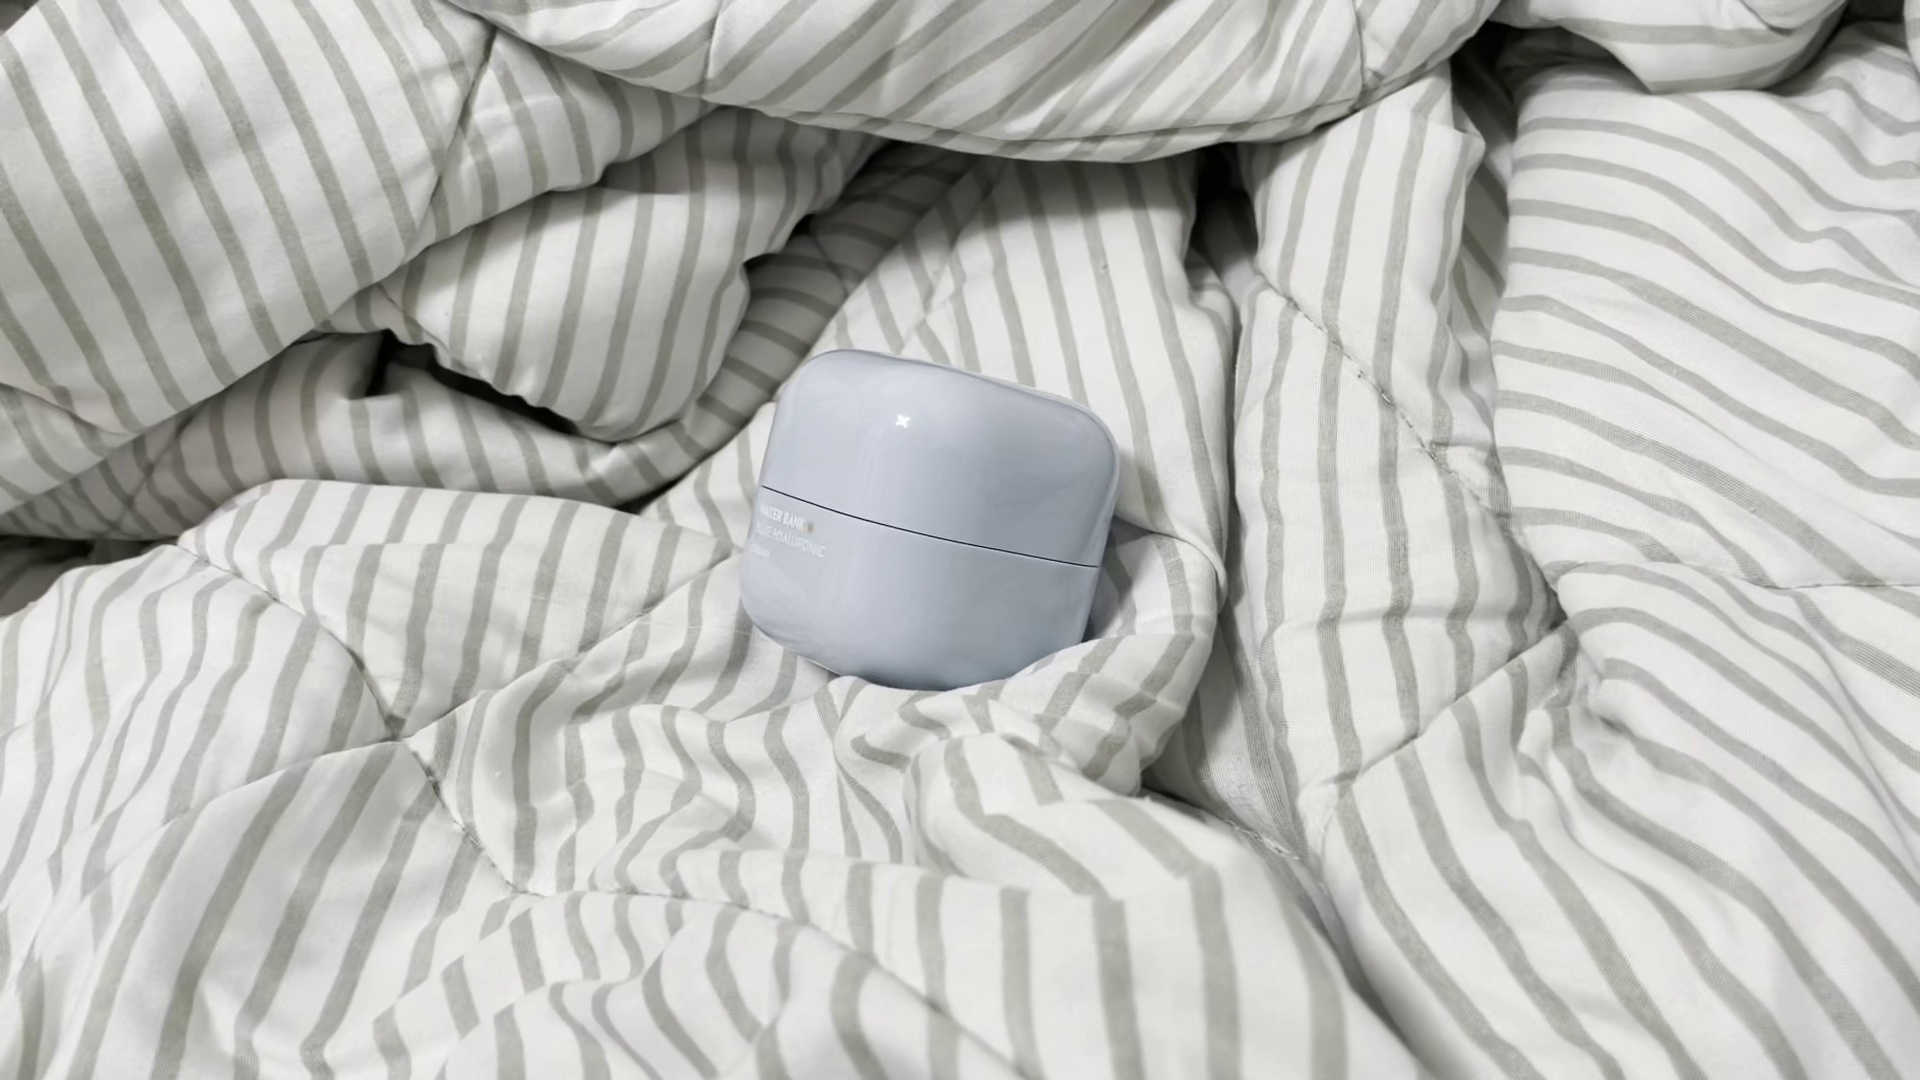cream: (742, 348, 1120, 688)
